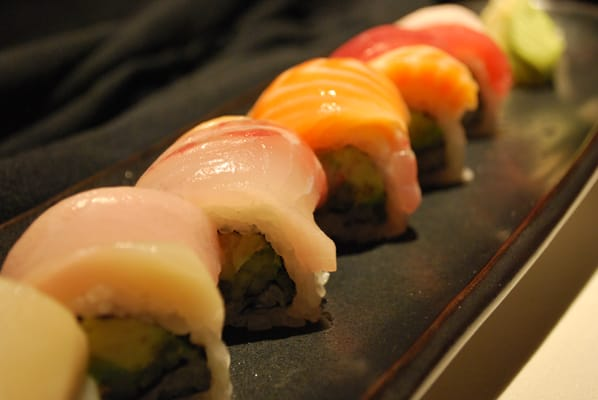taco: (133, 116, 337, 326), (0, 273, 91, 397)
